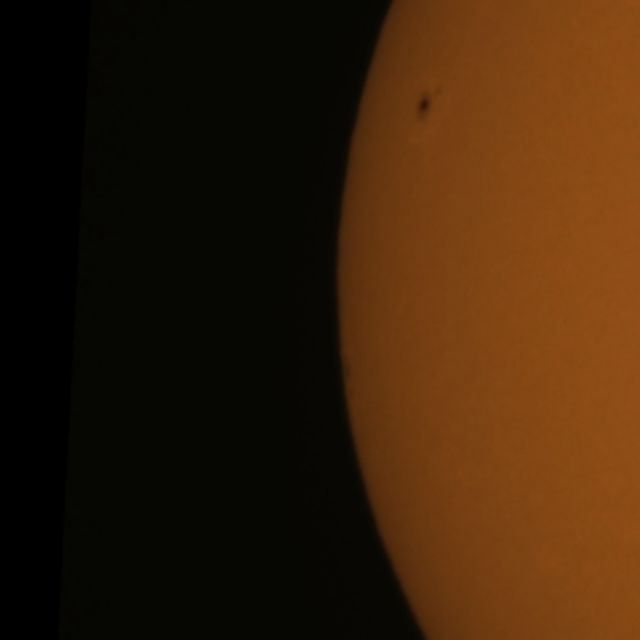sunspot: (414, 89, 434, 123)
